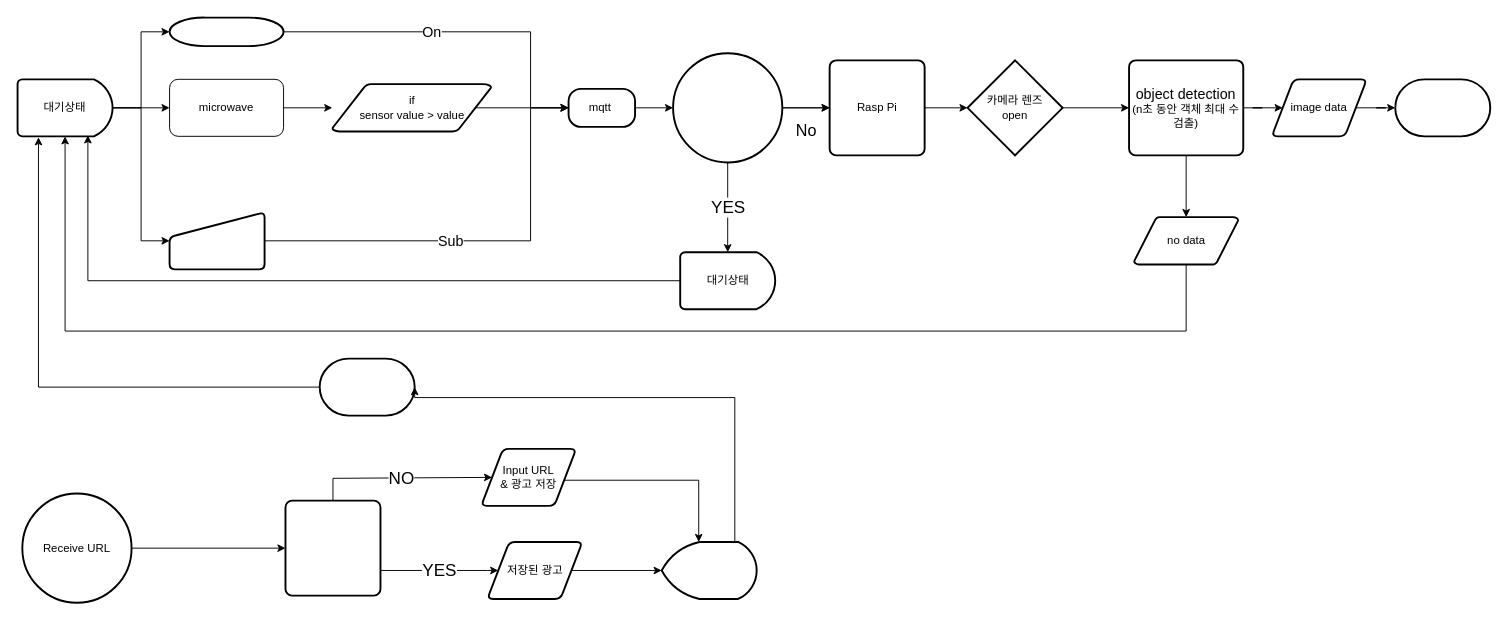
The diagram is 1508 pixels wide and 619 high, and some of its shapes have lost their labels. Here are the shapes that lost their labels. From the top down, the centre of each, then its label:
At point 226,31: "문 열림/닫힘 감지".
At point 727,107: "광고가 송출 중인가?".
At point 1442,107: "send image".
At point 216,240: "층수 버튼 입력".
At point 366,386: "광고 종료".
At point 332,547: "이전에 URL에 접속한 기록이 있는가?".
At point 708,570: "광고 재생".
